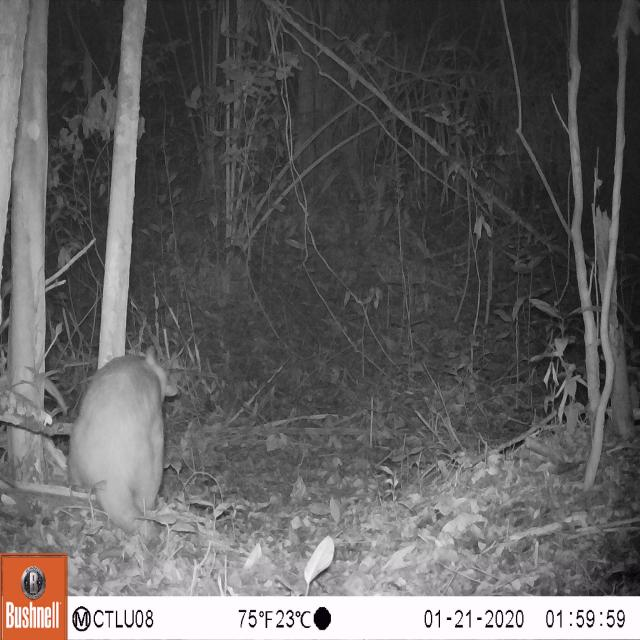Southern Tamandua: (67, 342, 182, 548)
